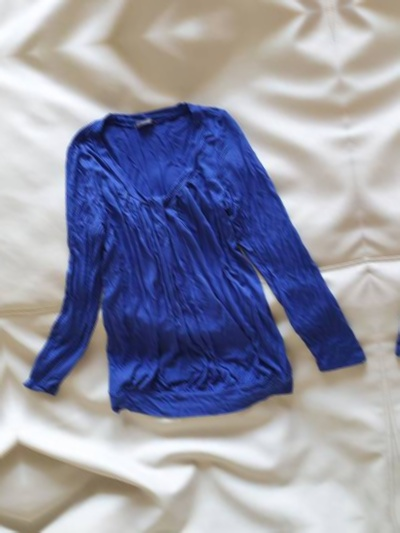Dress: (0, 89, 368, 442), (359, 34, 400, 387), (0, 142, 6, 496)
